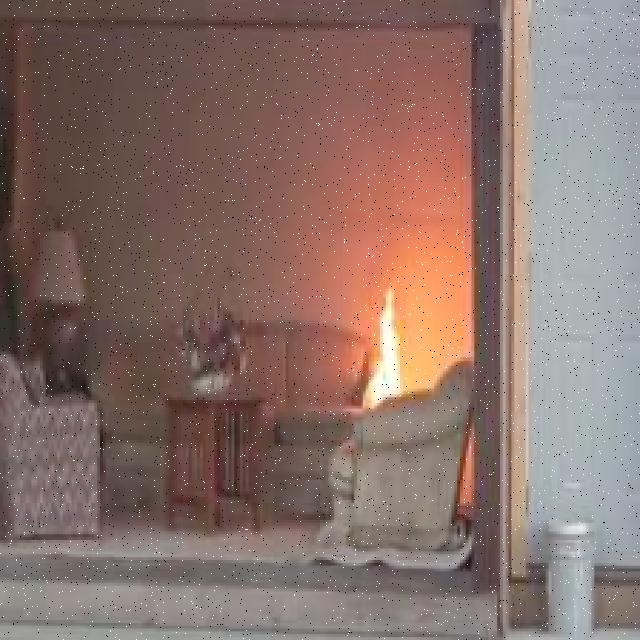fire: (357, 280, 408, 410)
